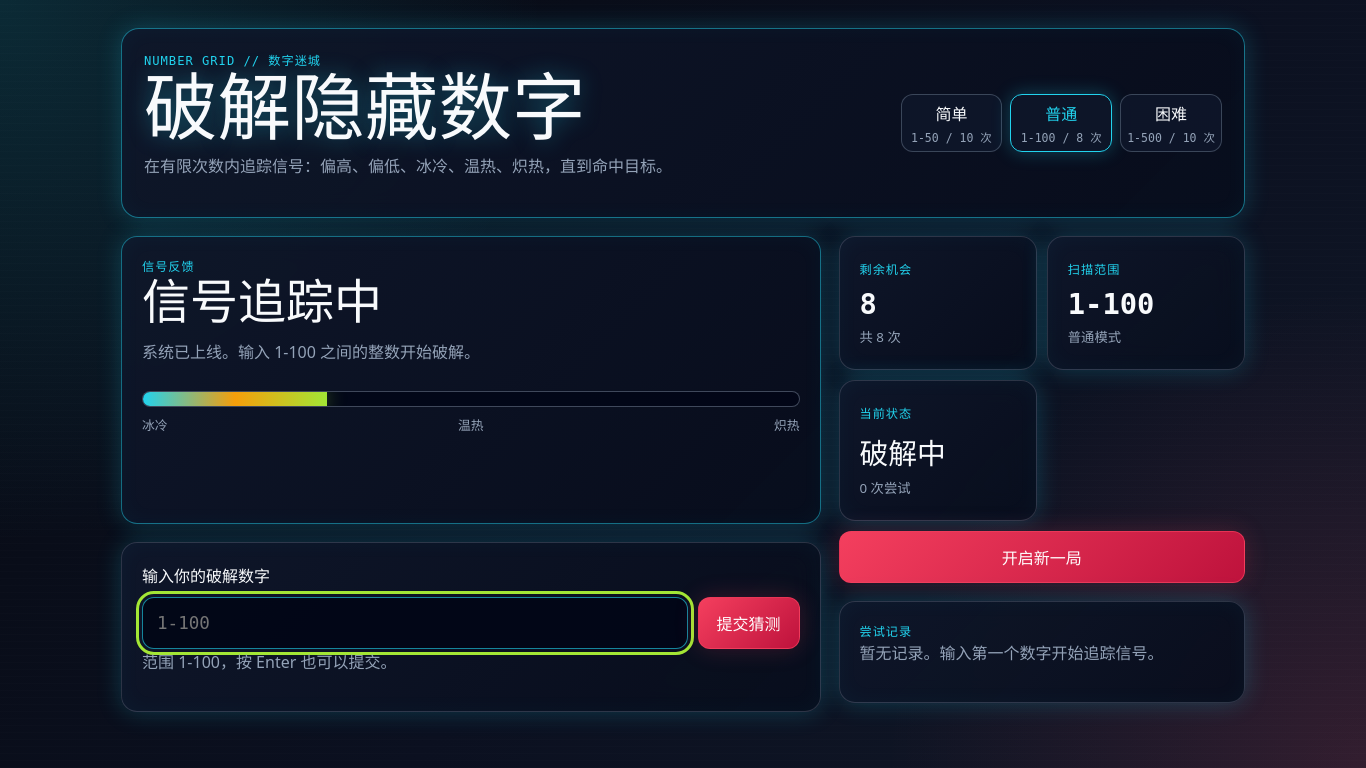
Test: App › shows validation without adding history for out-of-range input
The image size is (1366, 768).
Type "999" into the field labelled "输入你的破解数字" at (415, 623), box 142,597 -> 688,649
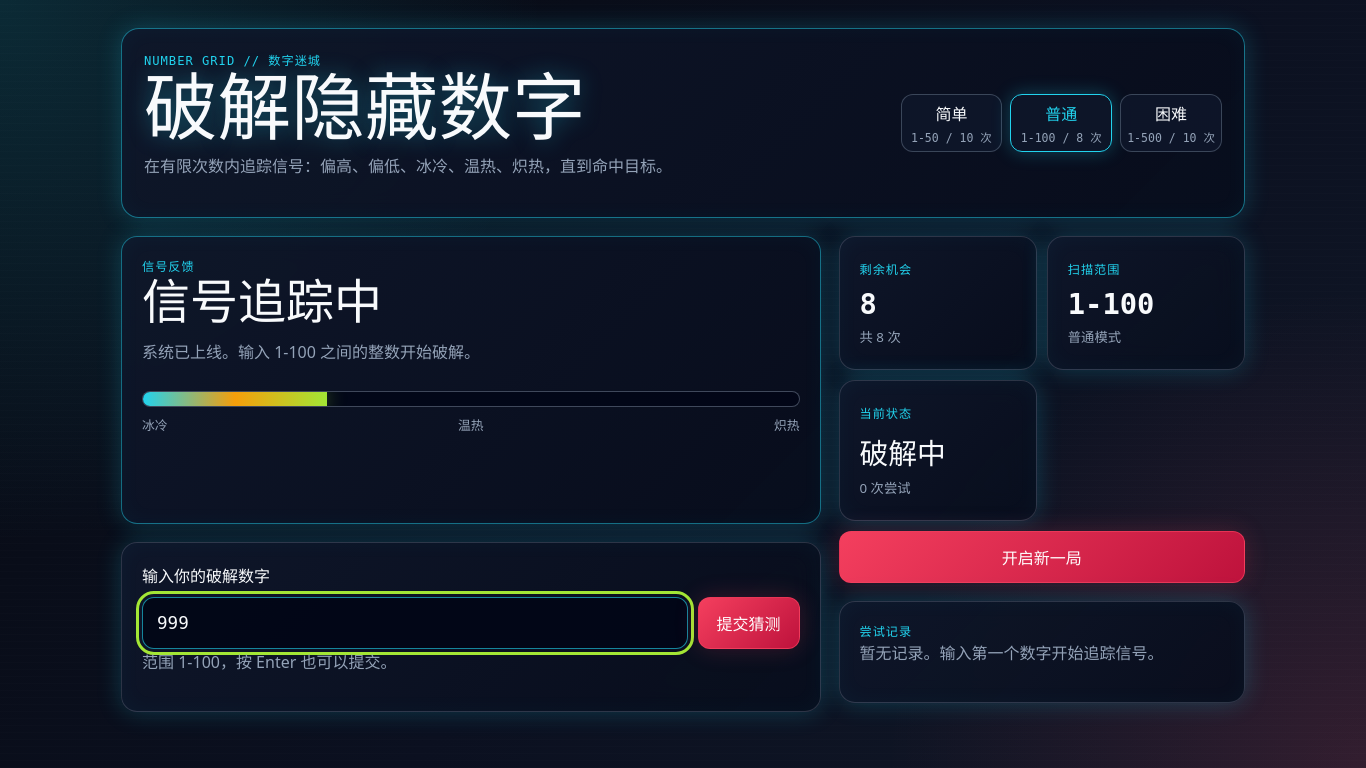
Click the button "提交猜测" at (748, 623), box 698,597 -> 800,649
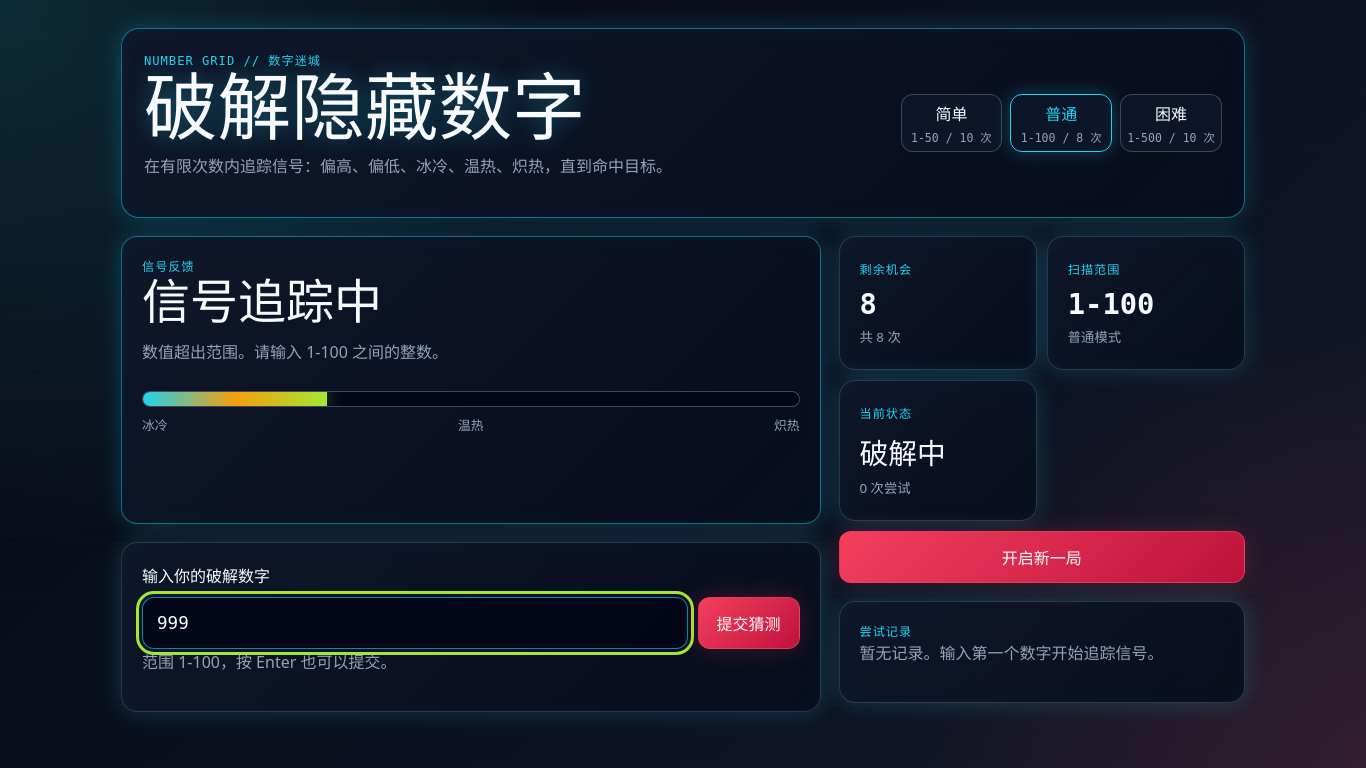
Expected: the text "暂无记录。输入第一个数字开始追踪信号。" is shown, 860,642 -> 1164,664
Expected: the text "数值超出范围。请输入 1-100 之间的整数。" is shown, 142,341 -> 448,363
